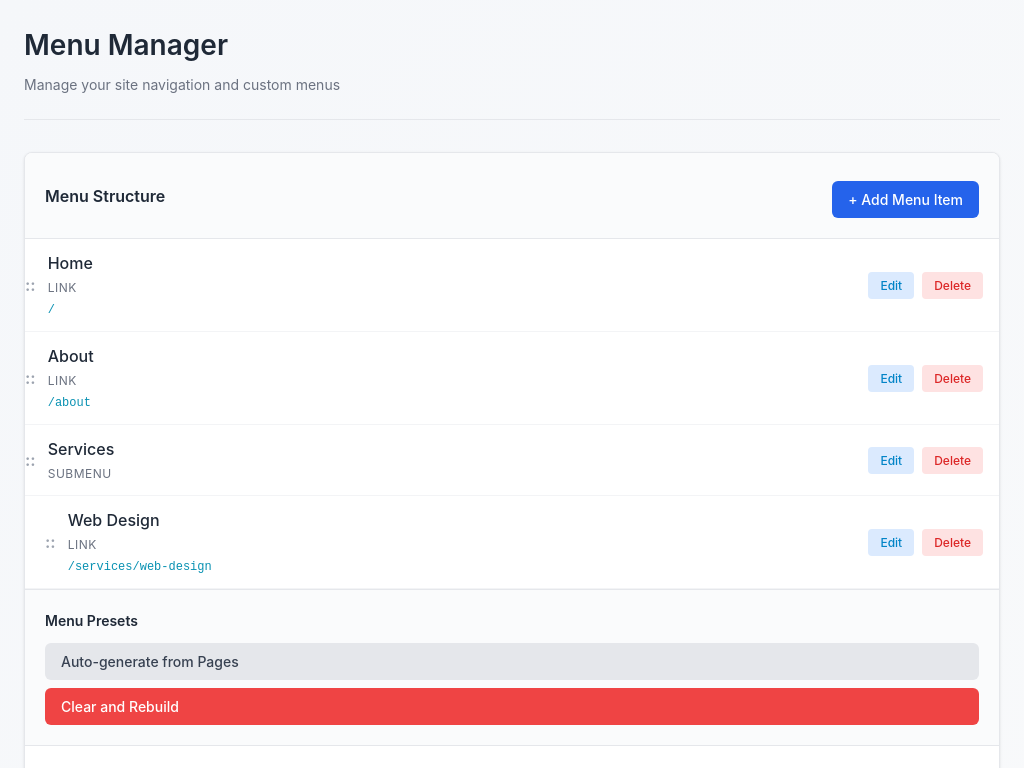
Test: MenuManager › opens menu item form when "Add menu item" button is clicked
What coordinates should you click on to do the following:
click the button "+ Add Menu Item"
I would click on:
 (906, 200)
Its box is [832,181,979,218].
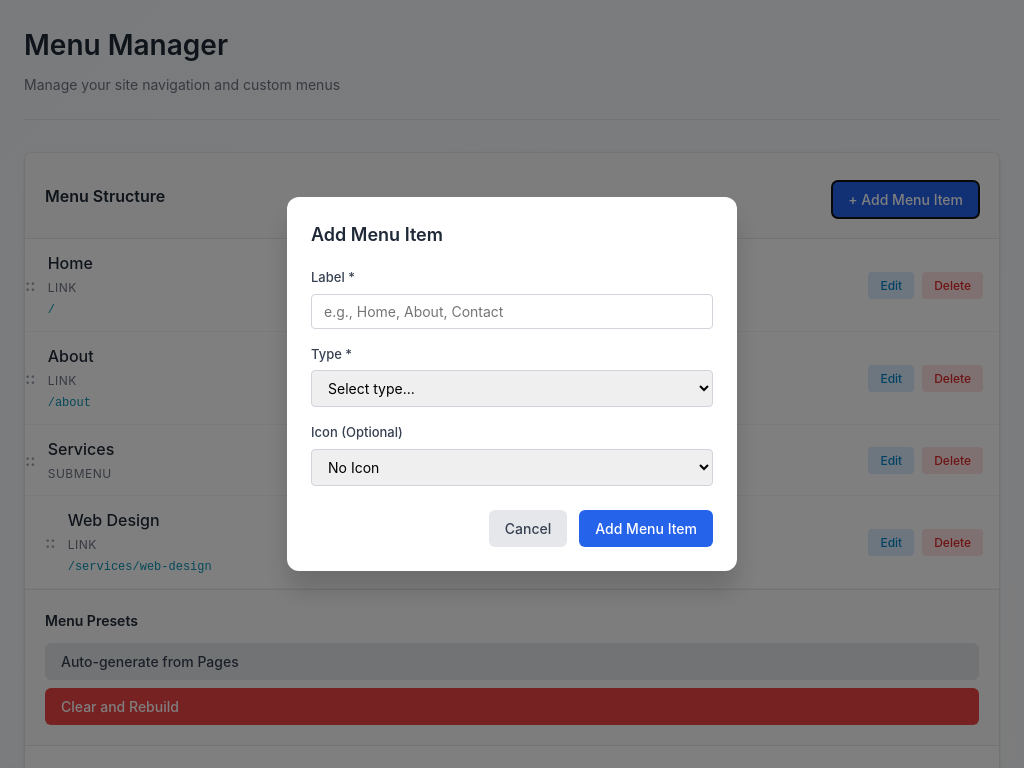
Expected: the element with test id "menu-item-editor" is shown
